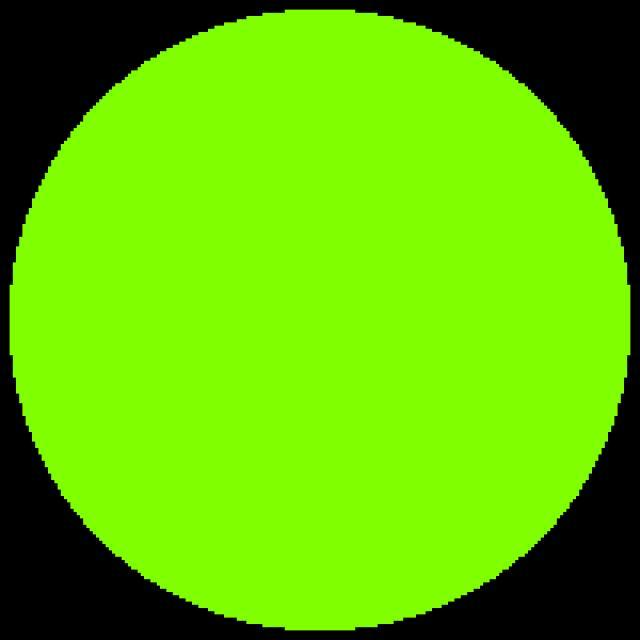Circle: (4, 5, 638, 635)
